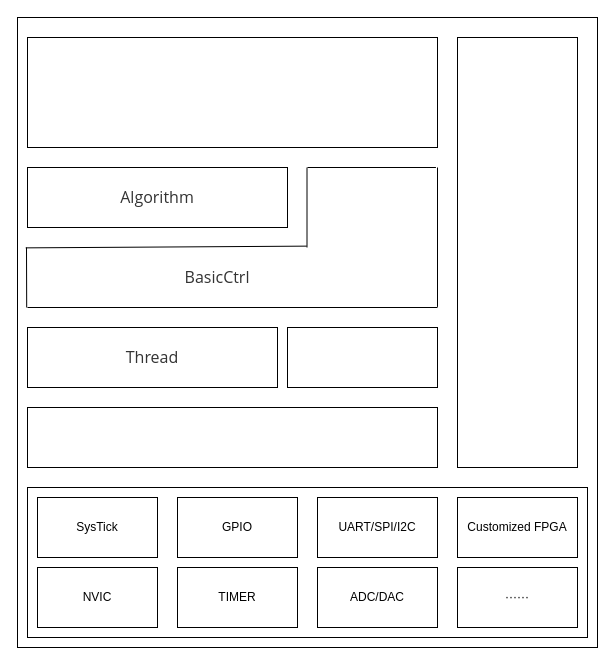
The diagram is 615 pixels wide and 665 high, and some of its shapes have lost their labels. Each missing label, with the centre of its shape:
Application: the point at 232,92
Port: the point at 232,437
Sensor: the point at 517,252
Sys: the point at 362,357
